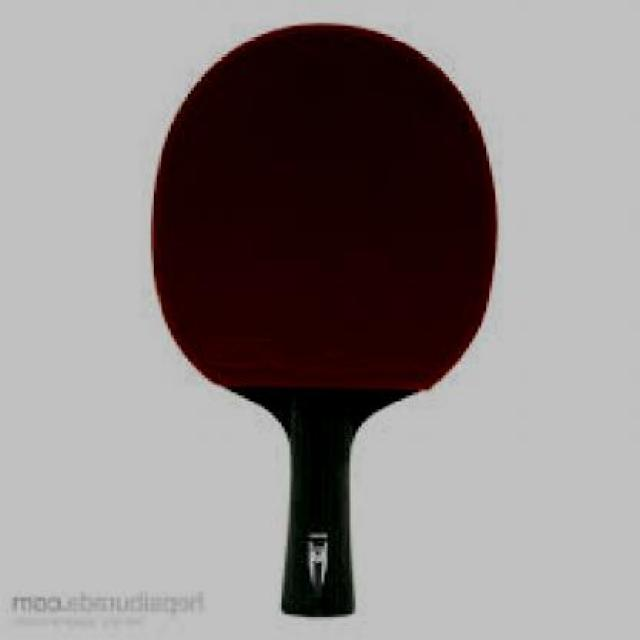table_tennis_racket: (151, 23, 498, 622)
